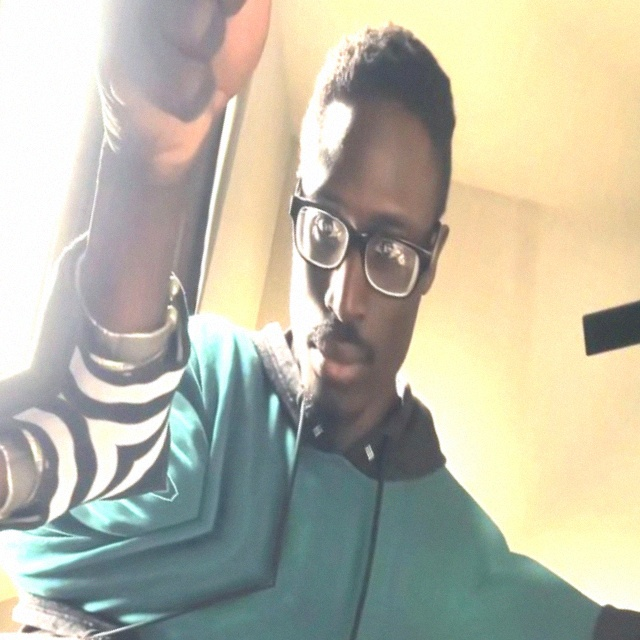Rock: (0, 0, 182, 39)
